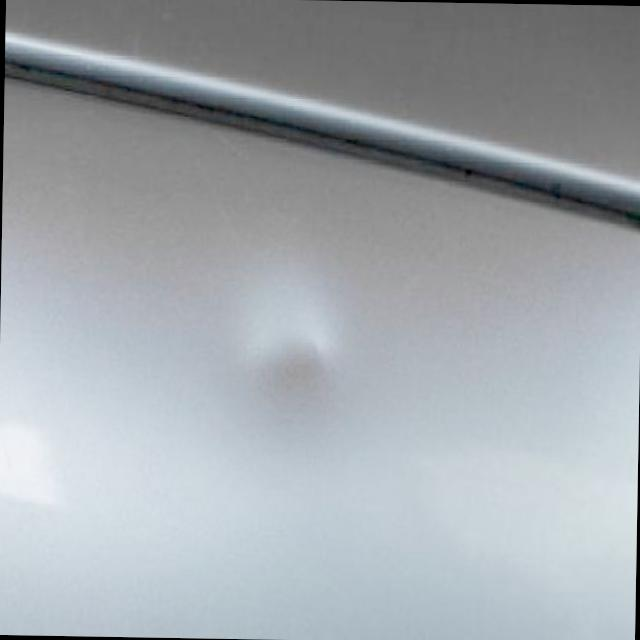dent: (244, 296, 350, 414)
